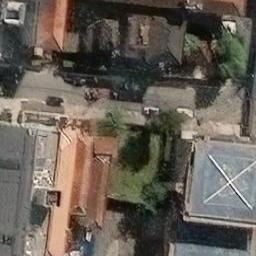heliponto: (202, 155, 255, 209)
